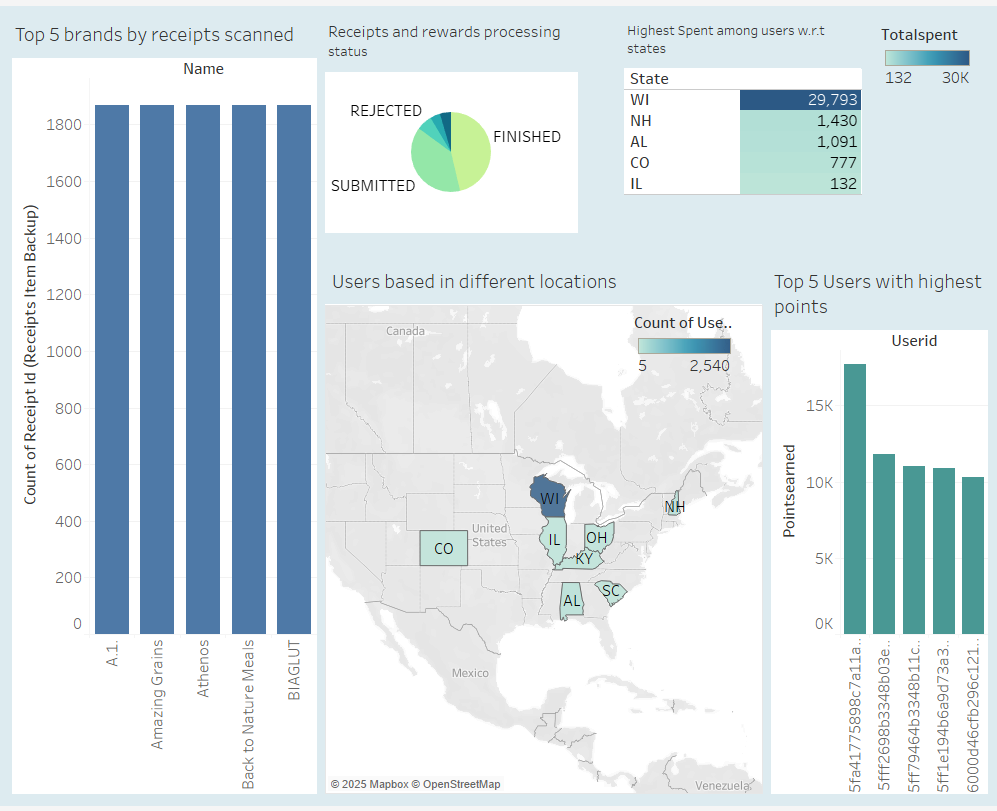

The dashboard page shown, as its layout file describes it:
{"tool":"tableau","page":{"name":"Dashboard 1","canvas":[1000,800],"ordinal":0},"visuals":[{"type":"worksheet","title":"Sheet 1","mark":"Automatic","rows":["RECEIPT_ID (RECEIPTS_ITEM_BACKUP)"],"cols":["NAME"],"box":[8,8,313,784]},{"type":"worksheet","title":"Sheet 5","mark":"Pie","box":[321,8,299,247]},{"type":"worksheet","title":"Sheet 4","mark":"Square","rows":["STATE"],"box":[620,8,372,247]},{"type":"legend","title":"Sheet 4","param":"[federated.1vaiy410vops9g1741igw0360g9w].[sum:TOTALSPENT:qk]","box":[881,18,93,67]},{"type":"worksheet","title":"Sheet 3","mark":"Automatic","box":[321,255,446,537]},{"type":"worksheet","title":"Sheet 2","mark":"Automatic","rows":["POINTSEARNED"],"cols":["USERID"],"box":[767,255,225,537]},{"type":"legend","title":"Sheet 3","param":"[federated.1vaiy410vops9g1741igw0360g9w].[cnt:USER_ID:qk]","box":[634,306,101,74]}]}

Visuals, with their boxes in screenshot pixels (x1, y1, x2, y2), scaled from the page's 1000x800 canvas onto the 997x811 screenshot:
"Sheet 1" worksheet: x1=8 y1=8 x2=320 y2=803
"Sheet 5" worksheet (Pie marks): x1=320 y1=8 x2=618 y2=259
"Sheet 4" worksheet (Square marks): x1=618 y1=8 x2=989 y2=259
"Sheet 4" legend: x1=878 y1=18 x2=971 y2=86
"Sheet 3" worksheet: x1=320 y1=259 x2=765 y2=803
"Sheet 2" worksheet: x1=765 y1=259 x2=989 y2=803
"Sheet 3" legend: x1=632 y1=310 x2=733 y2=385
